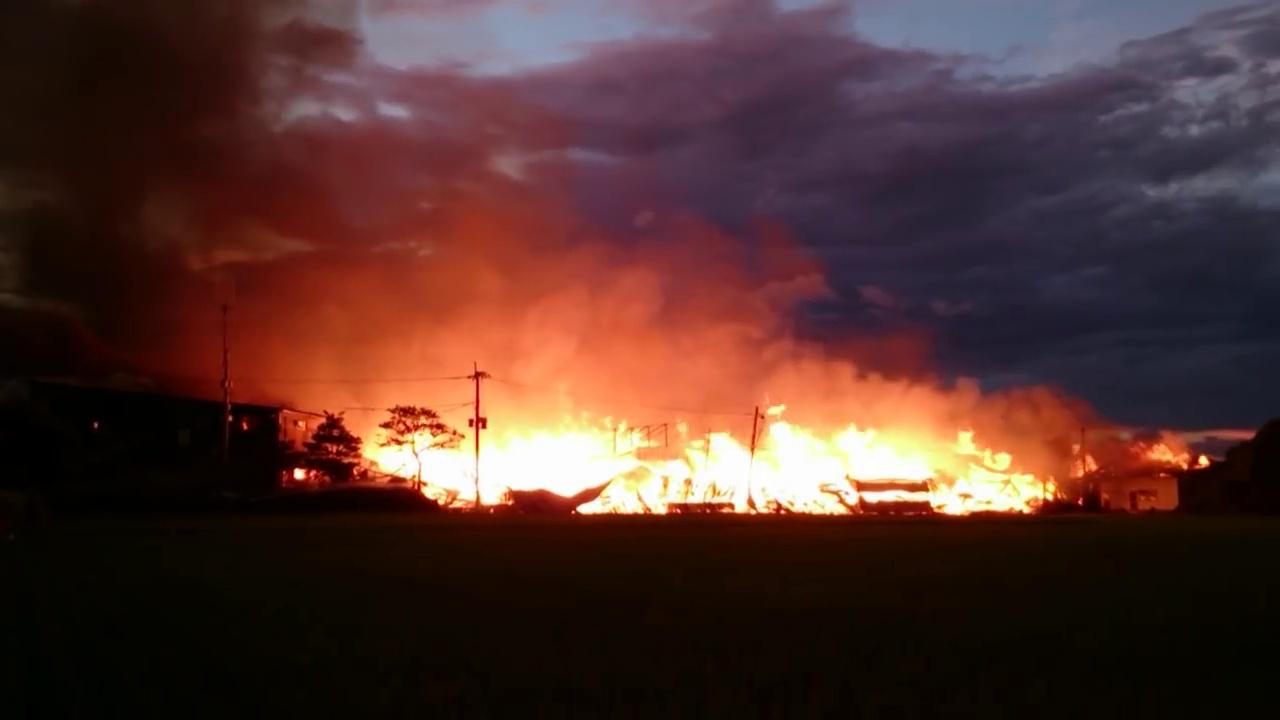fire: (356, 397, 1064, 518), (1138, 431, 1213, 473), (1068, 439, 1104, 476), (294, 464, 307, 481)
